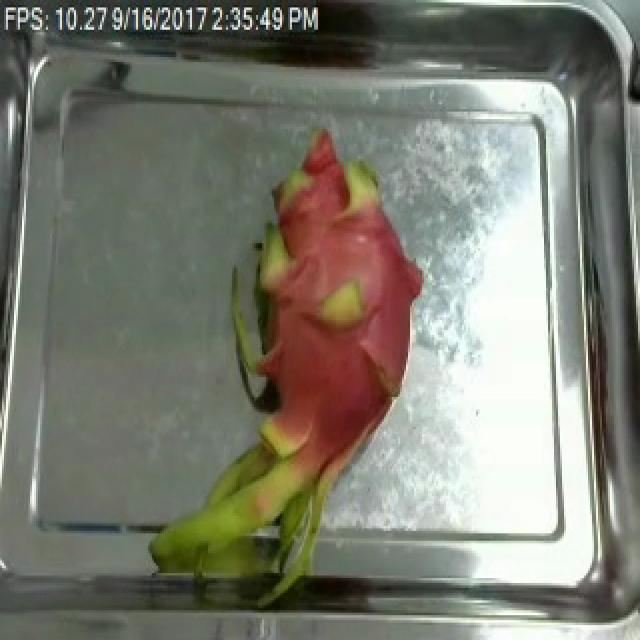fruit: (180, 139, 424, 573)
